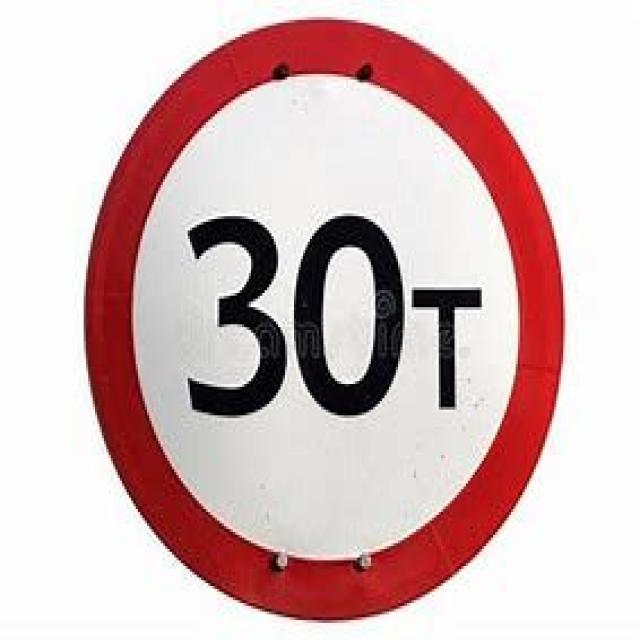load_limit: (81, 14, 561, 617)
